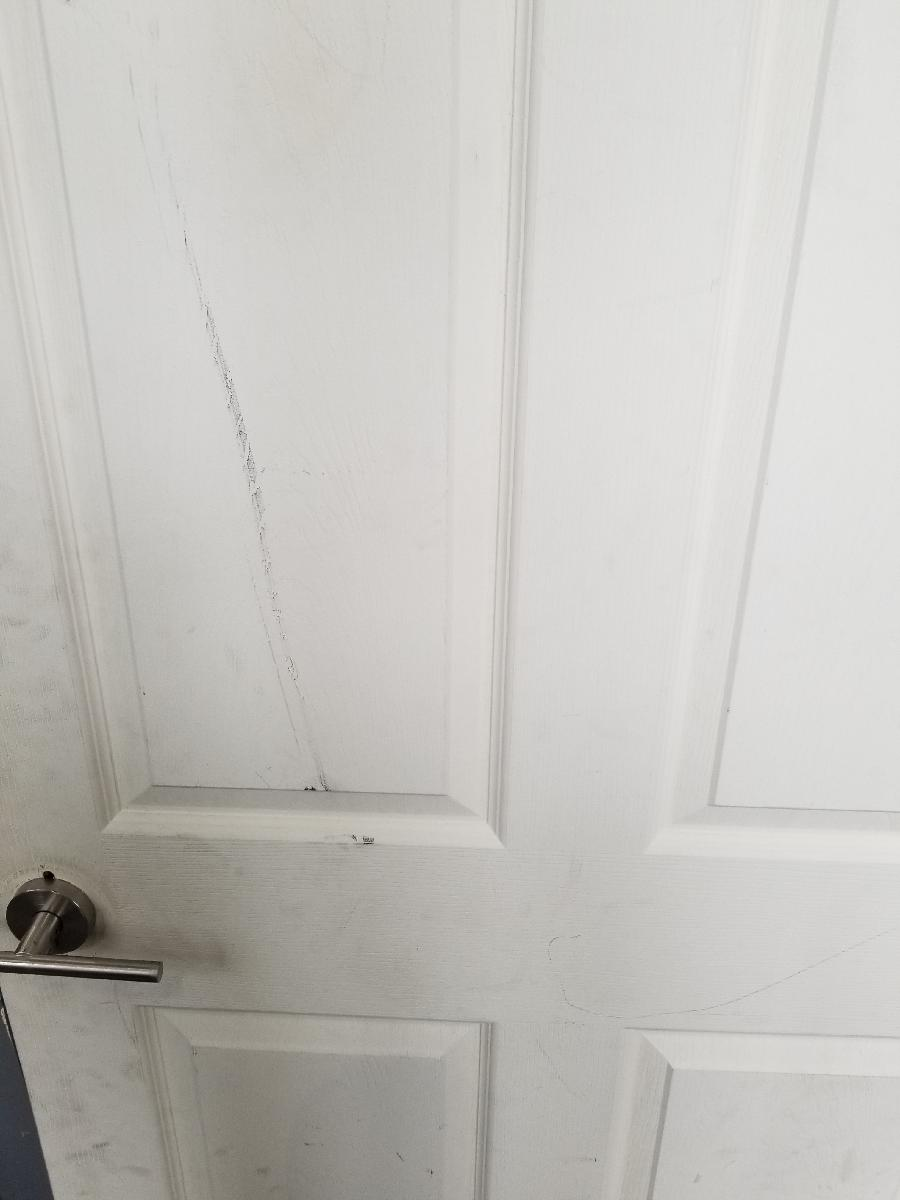doorHandle: (1, 875, 169, 992)
